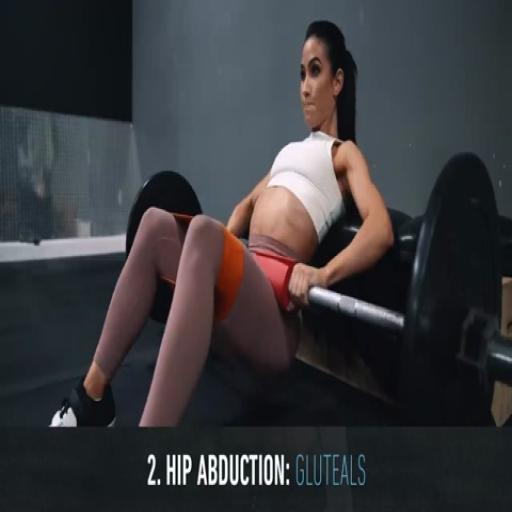exercise: (47, 17, 397, 430)
